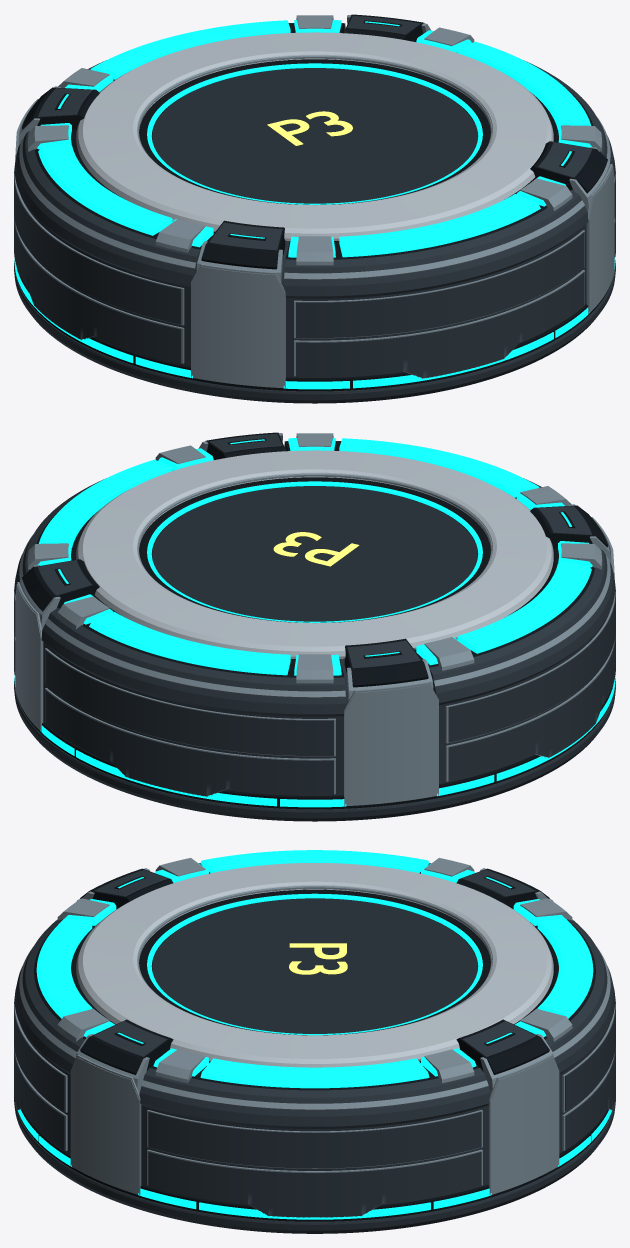
File: Heavy.fbx
3 renders of one model, top to bottom at view 1: azimuth 30°, elevation 25°; view 2: azimuth 150°, elevation 25°; view 3: azimuth 270°, elevation 25°, orthographic.
Parts seen in each view (by area): view 1: SM_Puck_Heavy_P3_HighDetail; view 2: SM_Puck_Heavy_P3_HighDetail; view 3: SM_Puck_Heavy_P3_HighDetail.
Part boxes in pixels (x1=…): SM_Puck_Heavy_P3_HighDetail: x1=14, y1=14, x2=615, y2=403; SM_Puck_Heavy_P3_HighDetail: x1=14, y1=432, x2=615, y2=821; SM_Puck_Heavy_P3_HighDetail: x1=14, y1=850, x2=615, y2=1233.
Size of the model in its own units: 97.5 by 97.5 by 27.3.
